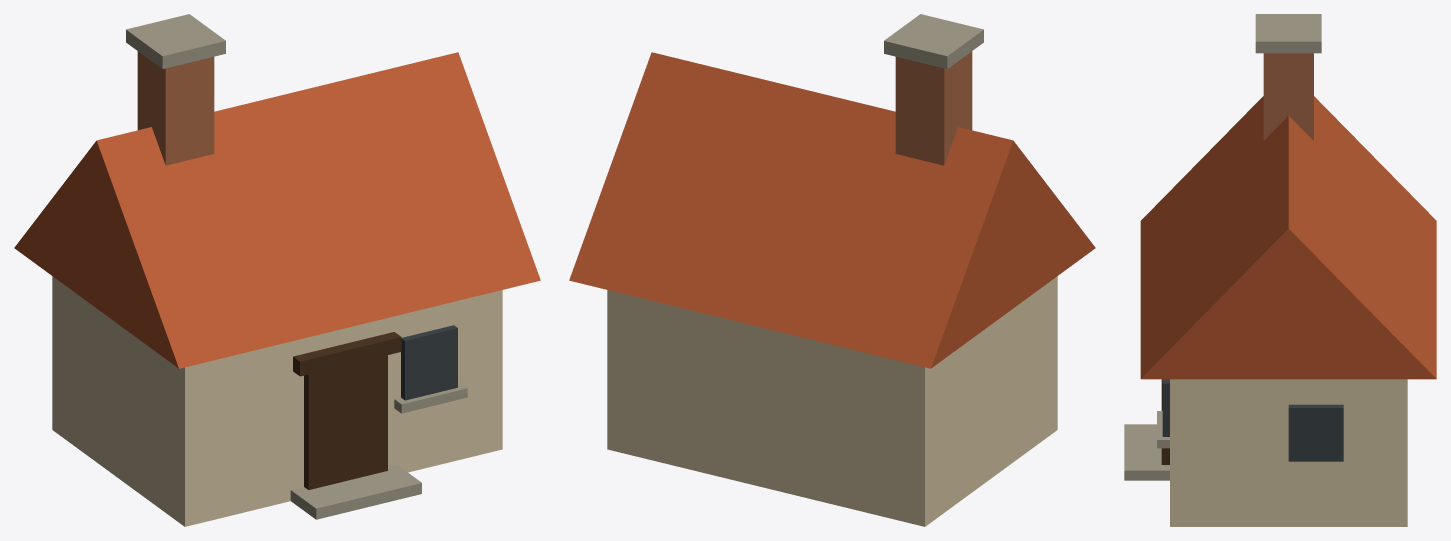
The model's file is cottage-DocBmdlQ.glb.
3 views of the same model, side by side, from view 1: azimuth 30°, elevation 25°; view 2: azimuth 150°, elevation 25°; view 3: azimuth 270°, elevation 25° (orthographic). The views are drawn at different scales.
Parts seen in each view (by area): view 1: Cottage_Export; view 2: Cottage_Export; view 3: Cottage_Export.
Boxes of the visible parts, x1,y1,x2,y2 form: Cottage_Export: (14,14,540,526); Cottage_Export: (569,14,1095,526); Cottage_Export: (1124,14,1436,526).
Bounding box in the file's own units: 4.1 × 4.65 × 3.42.
